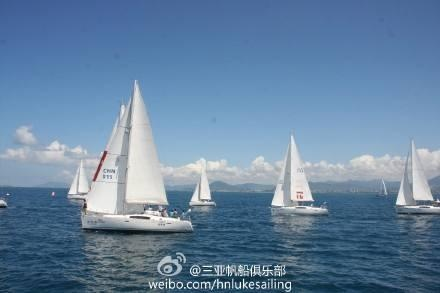fanchuan: (80, 80, 196, 237), (268, 126, 332, 215), (392, 138, 440, 215), (189, 155, 218, 207)
